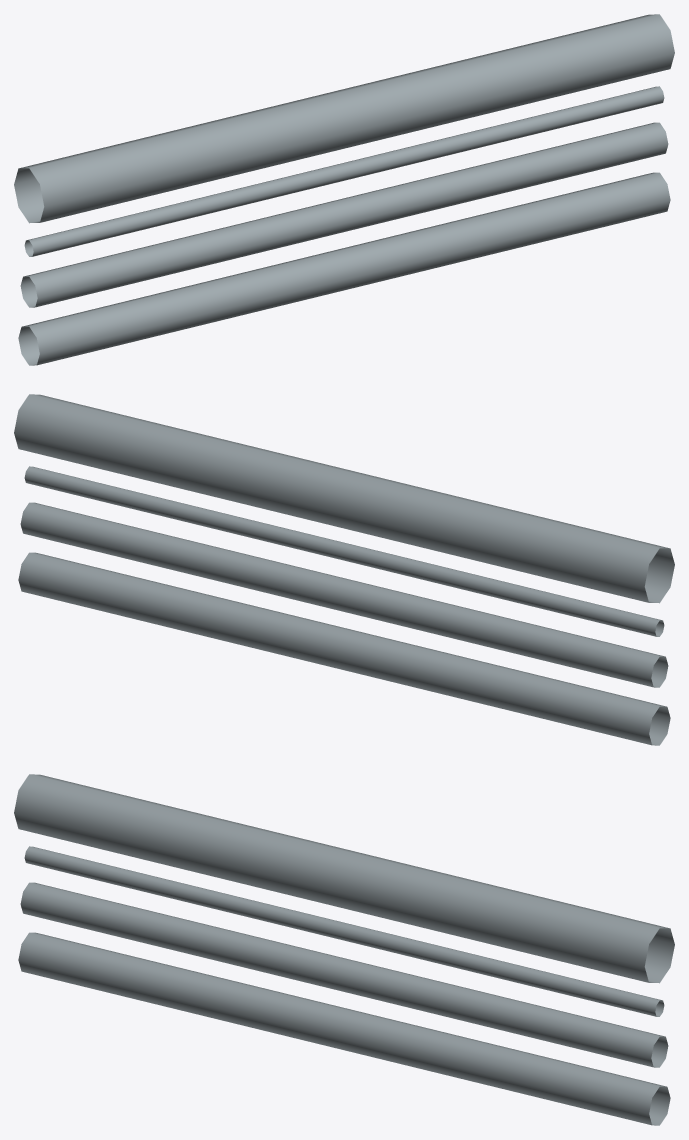
The model's file is Pipes.005 HD.007.fbx.
3 views of the same model, one above another, from view 1: azimuth 30°, elevation 25°; view 2: azimuth 150°, elevation 25°; view 3: azimuth 330°, elevation 25° (orthographic).
Parts seen in each view (by area): view 1: Pipes.005 HD.007; view 2: Pipes.005 HD.007; view 3: Pipes.005 HD.007.
Boxes of the visible parts, left/top/right/bottom form: Pipes.005 HD.007: left=14, top=14, right=674, bottom=365; Pipes.005 HD.007: left=14, top=394, right=674, bottom=745; Pipes.005 HD.007: left=14, top=774, right=674, bottom=1125.
Size of the model in its own units: 1 by 0.2989 by 0.0832.
